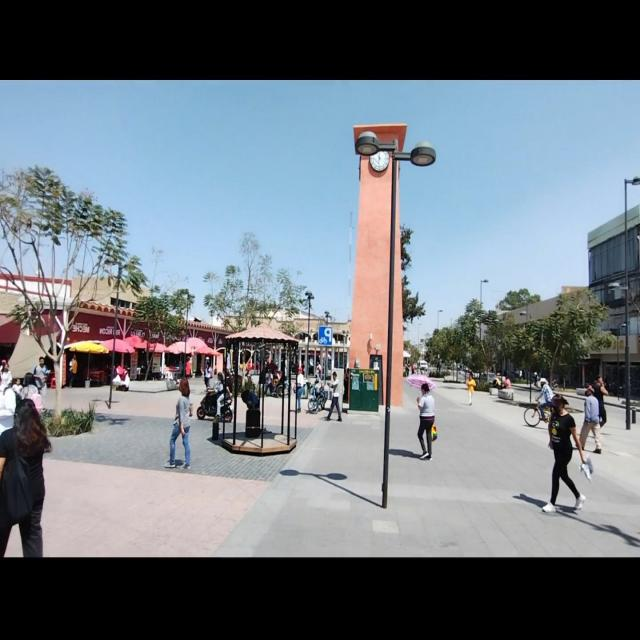adult: (0, 398, 46, 557), (542, 395, 586, 513), (164, 378, 194, 470), (578, 384, 602, 454), (416, 383, 434, 463), (214, 368, 233, 417), (324, 372, 342, 421), (536, 377, 555, 422), (593, 374, 608, 427), (208, 370, 223, 410), (33, 357, 47, 397), (294, 366, 304, 414)
